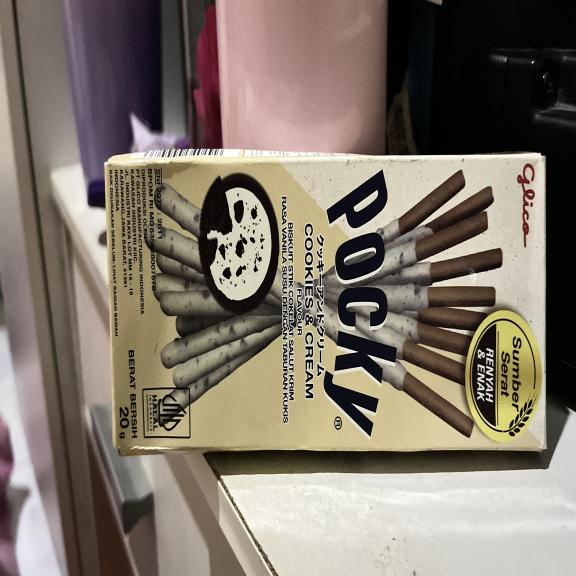Kertas: (104, 154, 546, 455)
